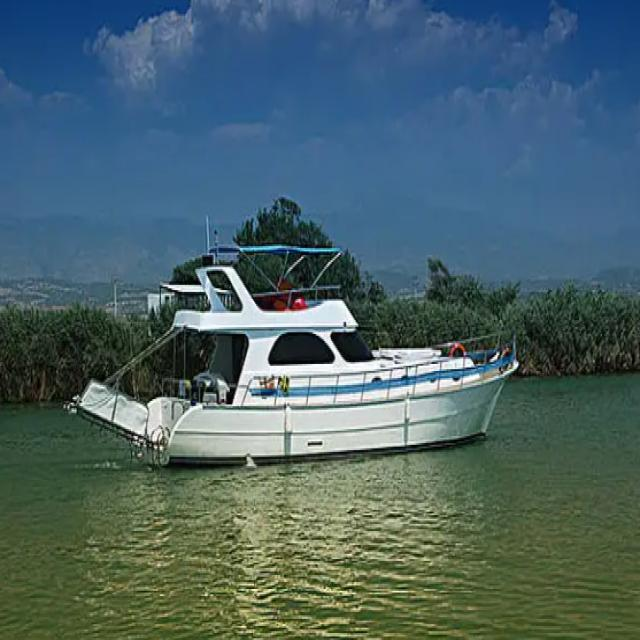houseboat: (68, 249, 521, 471)
